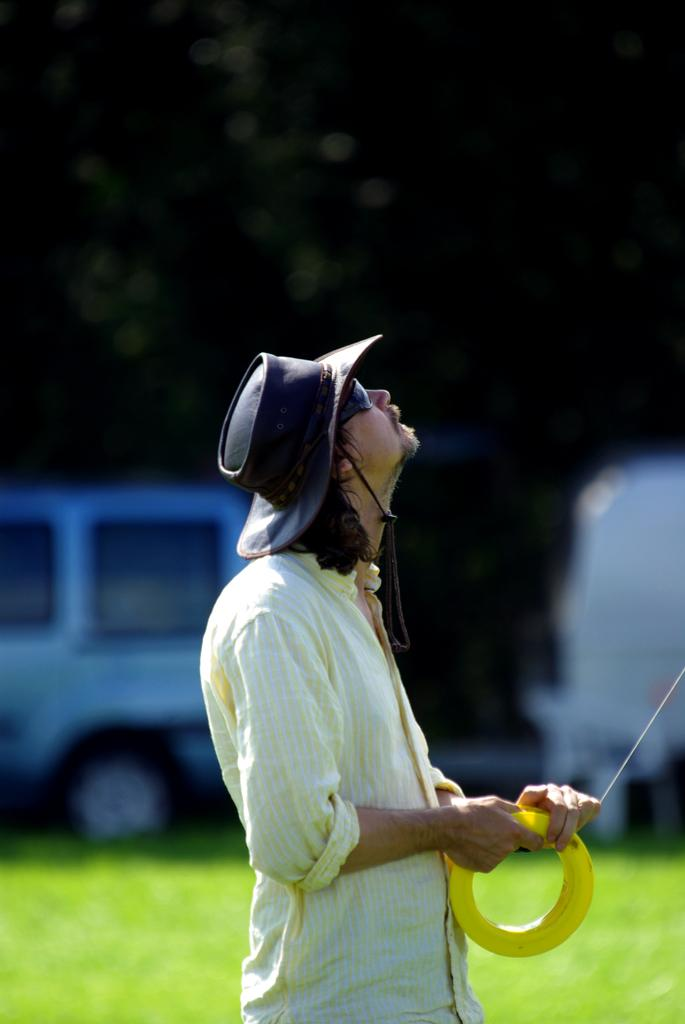Hat: (212, 332, 399, 558)
